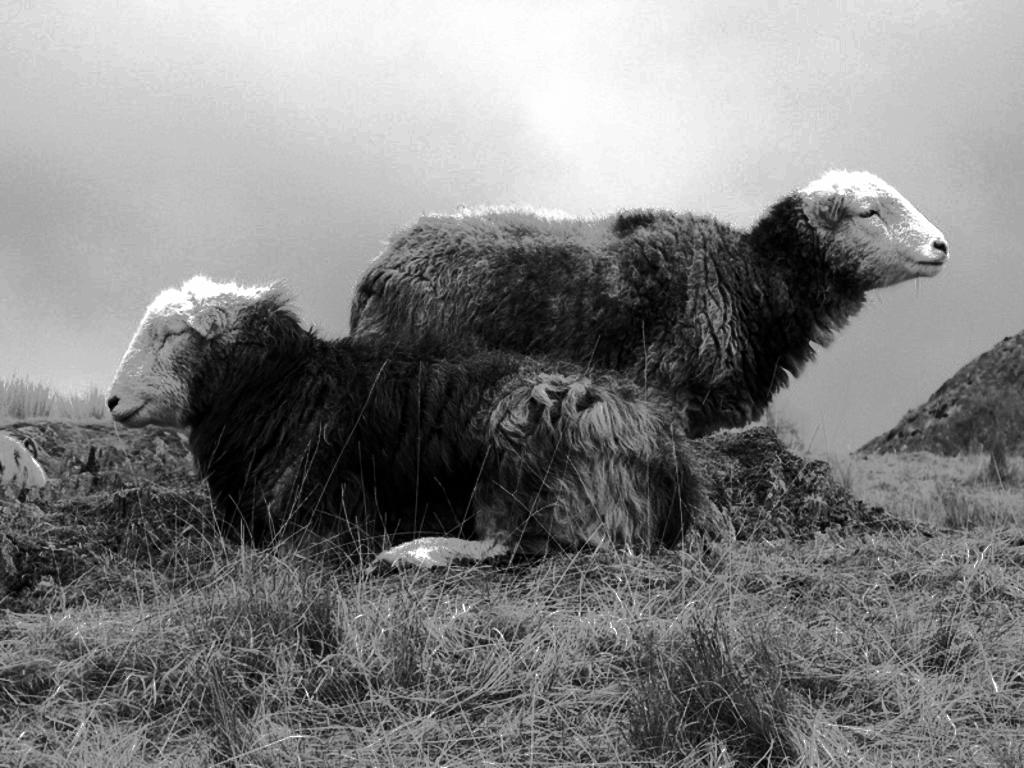Sheep: (98, 272, 710, 574), (350, 180, 947, 456)
